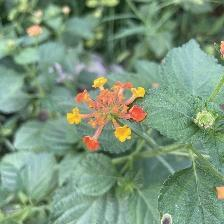common lanthana: (66, 74, 153, 155)
